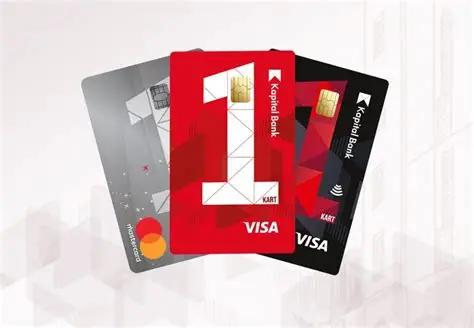Kapital Bank: (355, 91, 372, 108), (268, 67, 282, 83)
